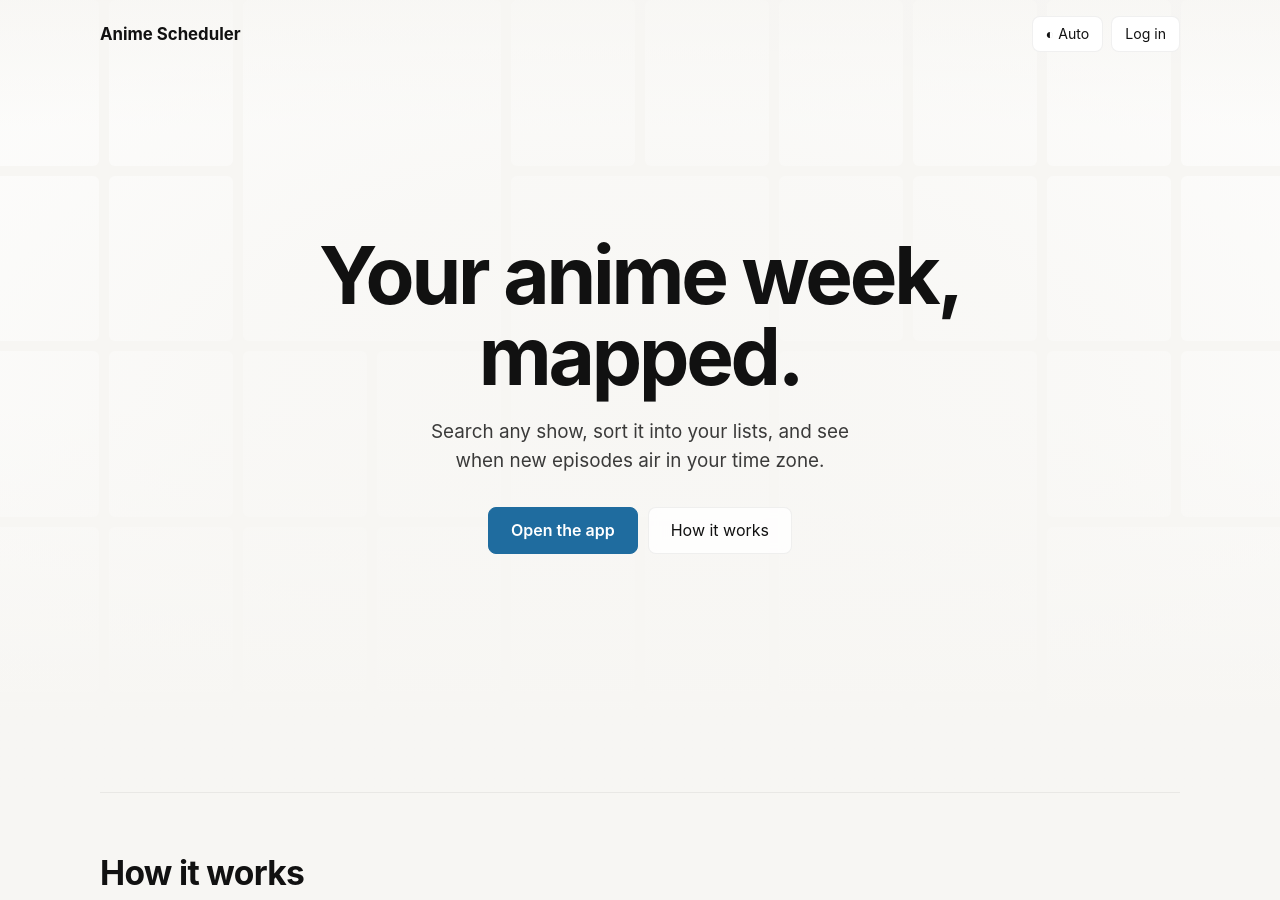
Test: App — +1 auto-advance (D4) › unknown total: +1 never auto-advances
Click the button "Open the app": point(563, 531) [488,507,638,554]
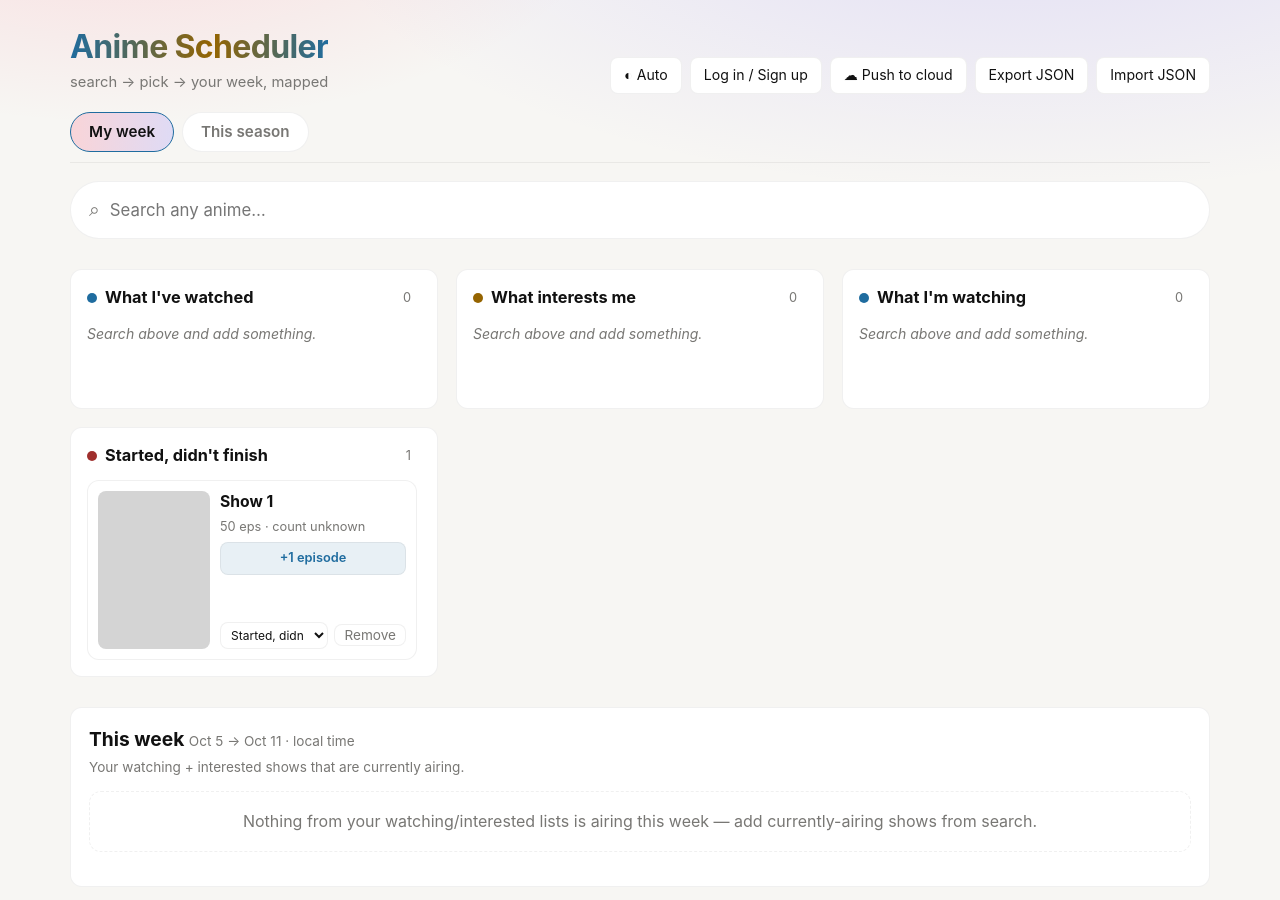
Click the button with aria-label "Add one episode of Show 1": point(313, 558) [220,542,406,574]
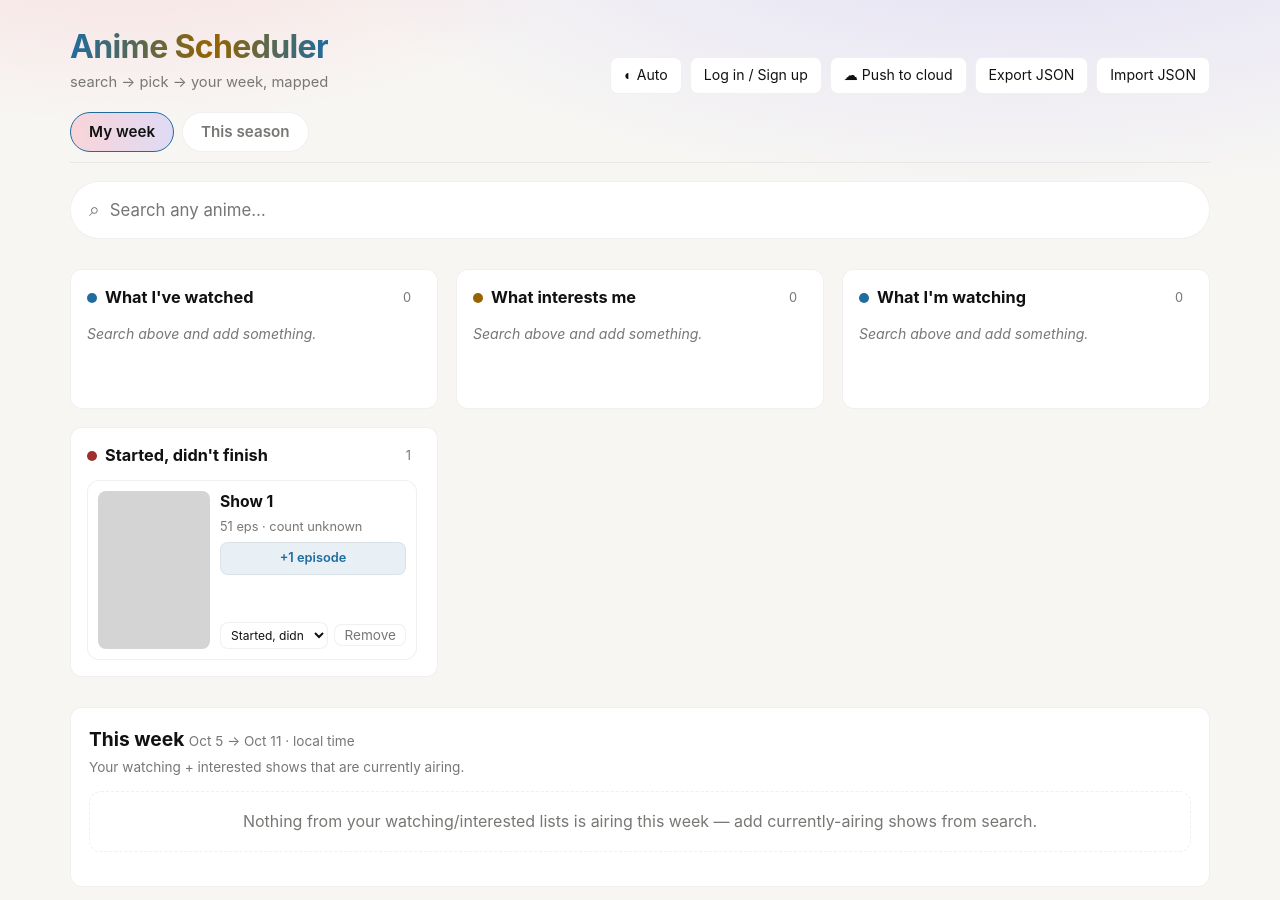
Check: the element labelled "What I've watched" does not show "Show 1", box [70,269,438,409]
Check: the text "51 eps · count unknown" is shown, box [220,520,362,534]
